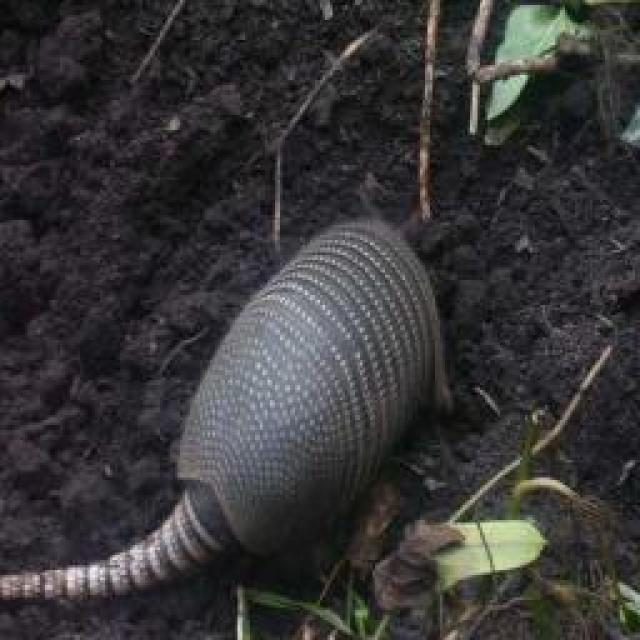not_pig: (0, 210, 455, 612)
